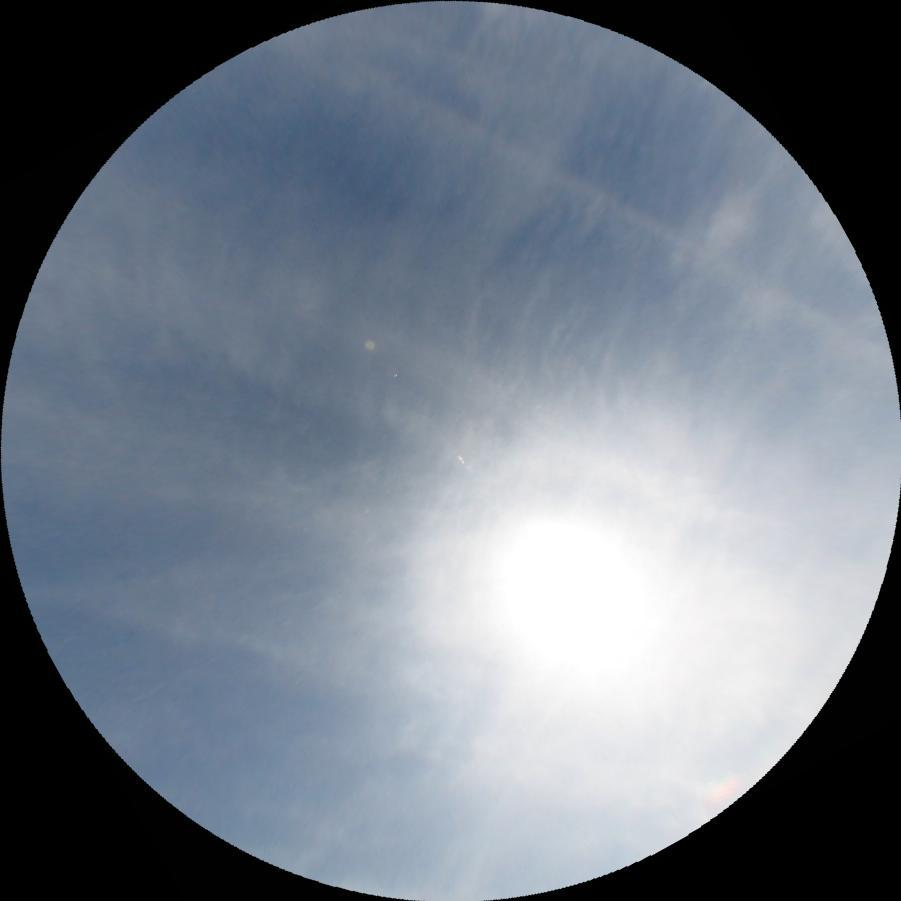sun: (466, 487, 675, 701)
